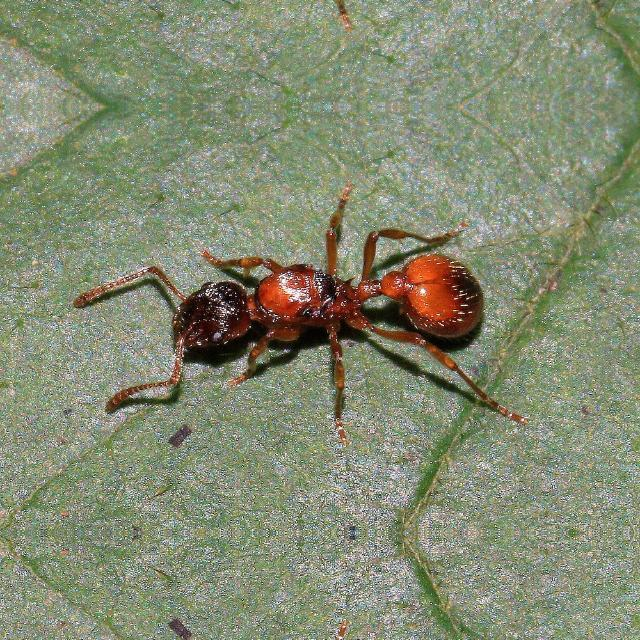Myrmica: (125, 214, 512, 390)
